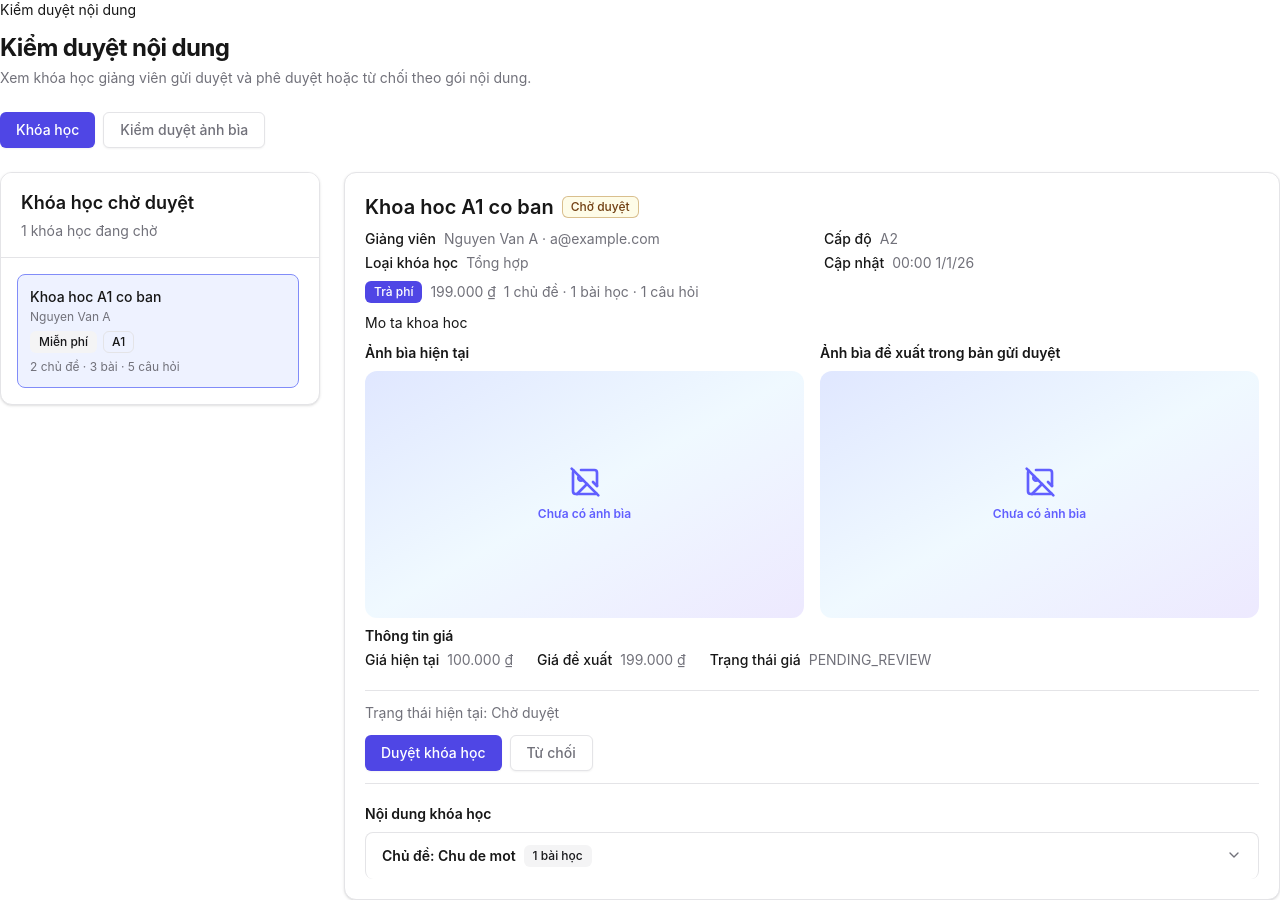
Test: AdminContentReviewPage shadcn sync › renders topics as a collapsed accordion and keeps lesson detail inside a dialog, not inline
Expected: the heading "Khoa hoc A1 co ban" is shown, [365,193,554,221]
Expected: the element showing "Chủ đề: Chu de mot 1 bài học" is shown, [365,832,1259,879]
Click the button "Chủ đề: Chu de mot 1 bài học" at (410, 855), box [382,833,1242,879]
(page scrolled)
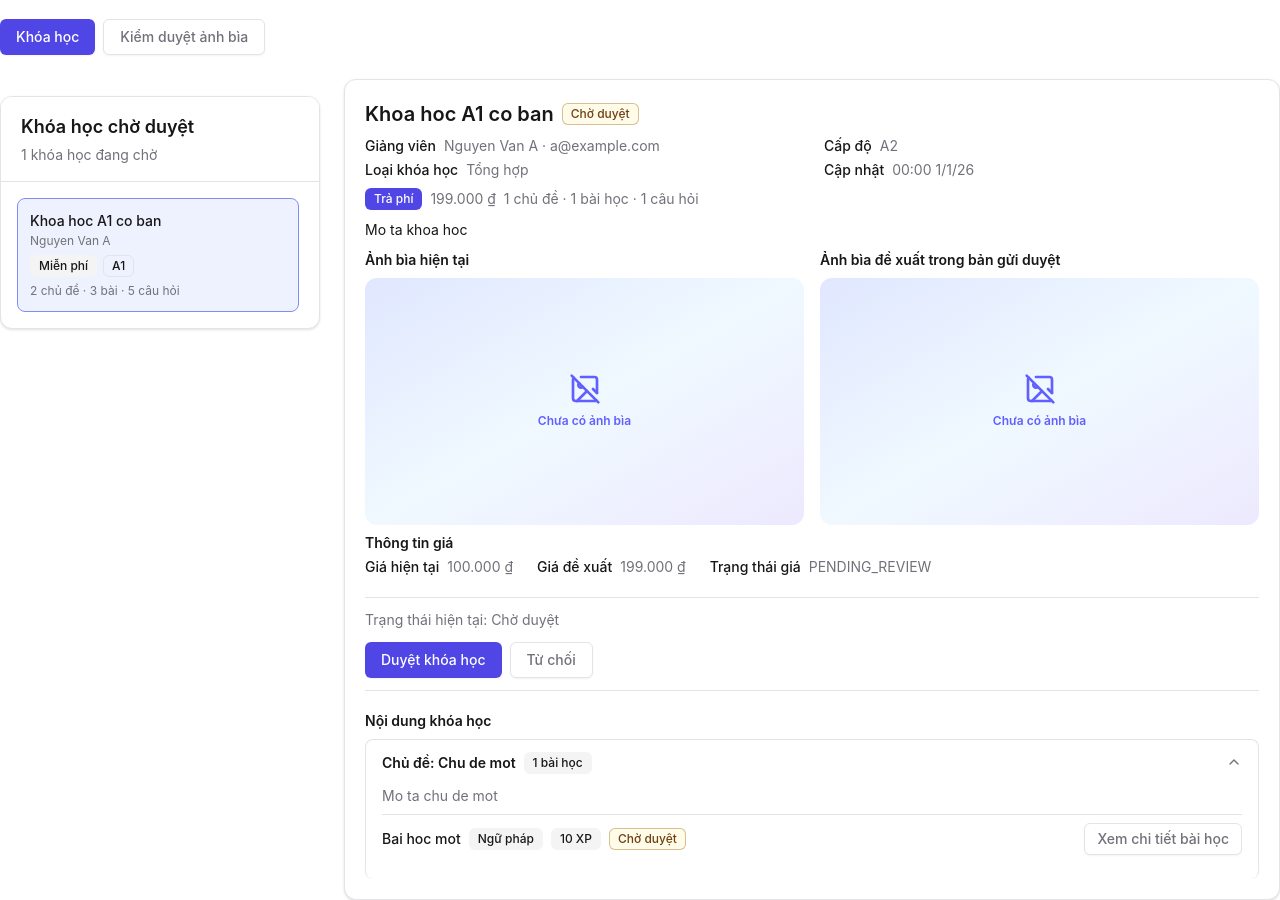
Expected: the text "Noi dung chi tiet bai hoc mot" is not shown
Now the button "Chủ đề: Chu de mot 1 bài học" is expanded, box [382,740,1242,786]
Now the text "Bai hoc mot" is shown, box [382,829,461,849]
# full lesson detail opens in a dialog per lesson
Click the button "Xem chi tiết bài học" at (1163, 839), box [1084,823,1242,855]
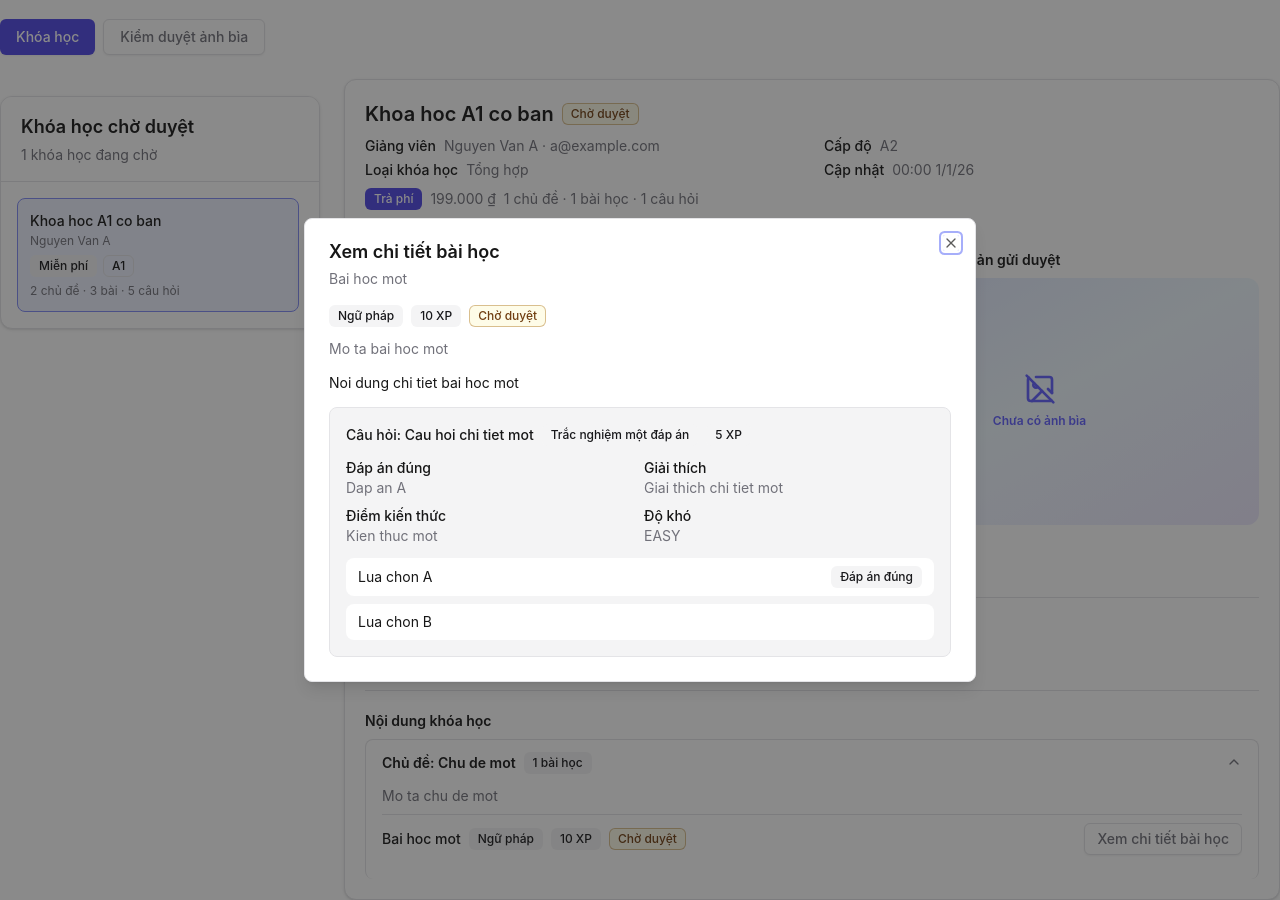
Now the text "Noi dung chi tiet bai hoc mot" is shown, box [329,374,519,391]
Now the heading "Câu hỏi: Cau hoi chi tiet mot" is shown, box [346,425,534,445]
Now the text "Giai thich chi tiet mot" is shown, box [644,479,783,496]
